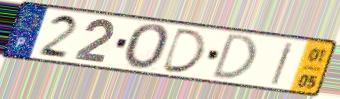2: (72, 17, 117, 66), (35, 14, 81, 60)
D: (208, 32, 258, 82), (159, 27, 210, 75)
I: (268, 41, 296, 87)
O: (122, 22, 173, 72)
